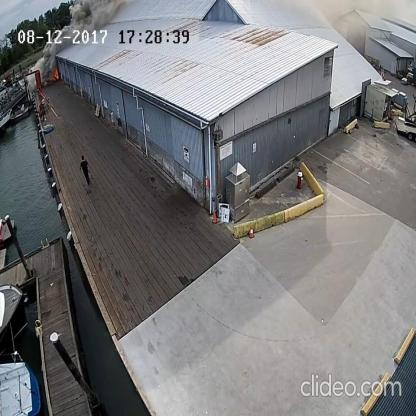fire: (50, 66, 61, 82)
